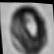correct: (3, 0, 50, 54)
